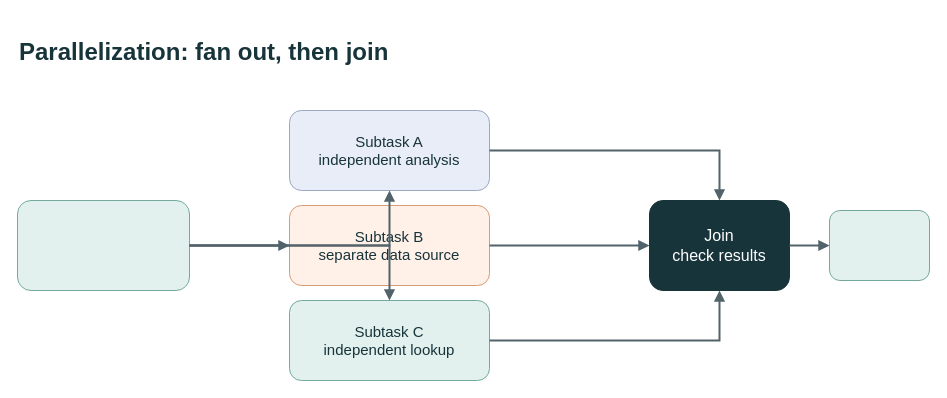
The diagram is 947 pixels wide and 398 high, and some of its shapes have lost their labels. Here are the shapes that lost their labels. From the top down, the centre of each, then its label:
At point 103,245: "Input shared context".
At point 879,245: "Synthesize".
